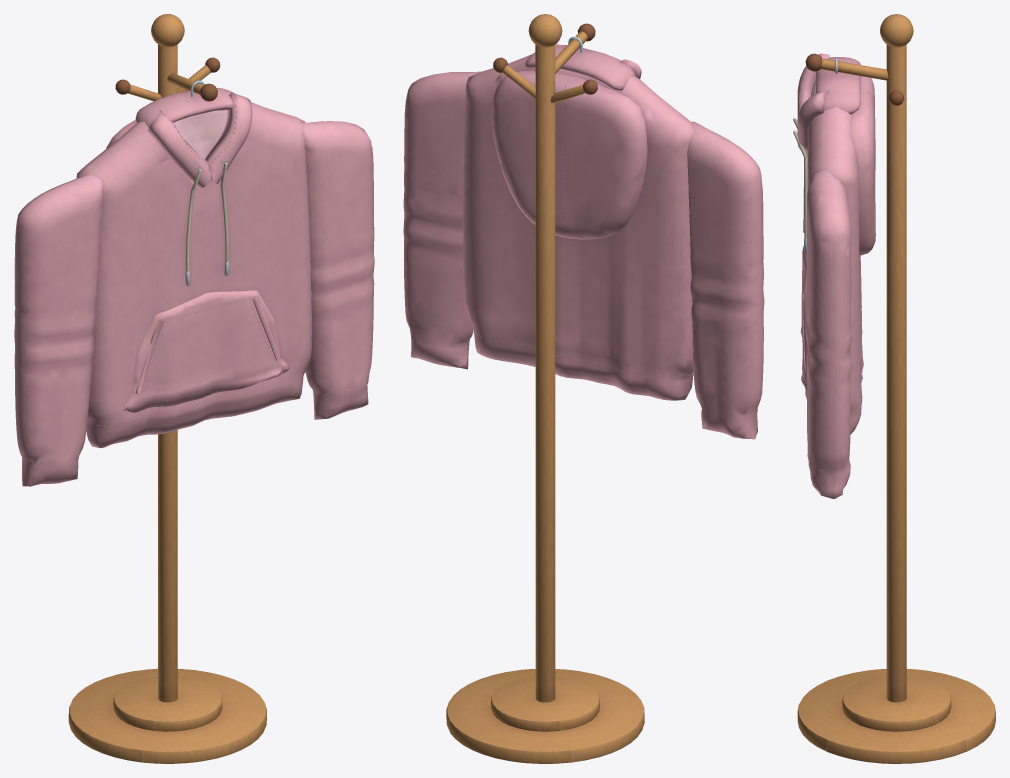
Rendered from hoodie.glb.
The picture shows the model from 3 angles, left to right: view 1: azimuth 30°, elevation 25°; view 2: azimuth 150°, elevation 25°; view 3: azimuth 270°, elevation 25°; orthographic projection.
Visible parts, largest first — view 1: hoodie_body; view 2: hoodie_body; view 3: hoodie_body.
Part boxes in pixels (<box>): hoodie_body: <box>14,14,374,763</box>; hoodie_body: <box>403,14,764,763</box>; hoodie_body: <box>793,14,995,763</box>.
Bounding box in the file's own units: 0.8278 × 1.57 × 0.409.
Materials: 1 (1 with a texture image).
